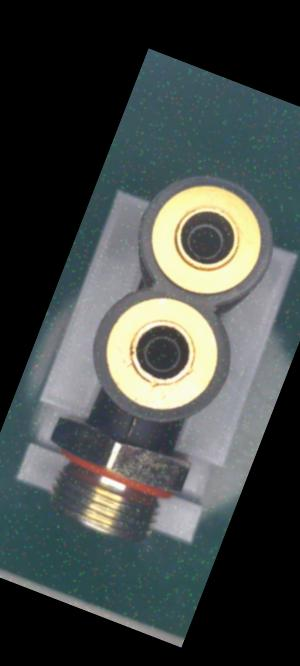craze: (119, 415, 139, 447)
